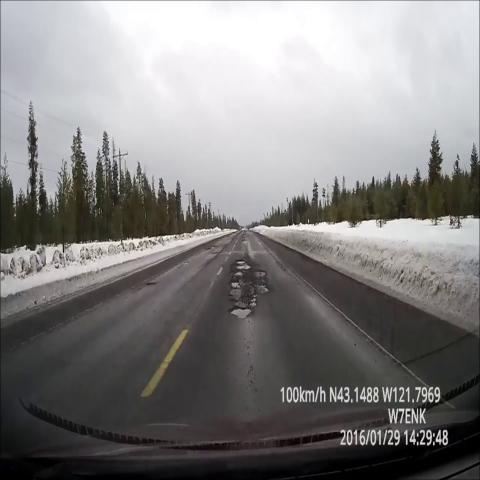pothole: (223, 248, 272, 332), (172, 249, 195, 279), (138, 272, 161, 298), (203, 234, 223, 257), (238, 227, 252, 248)
